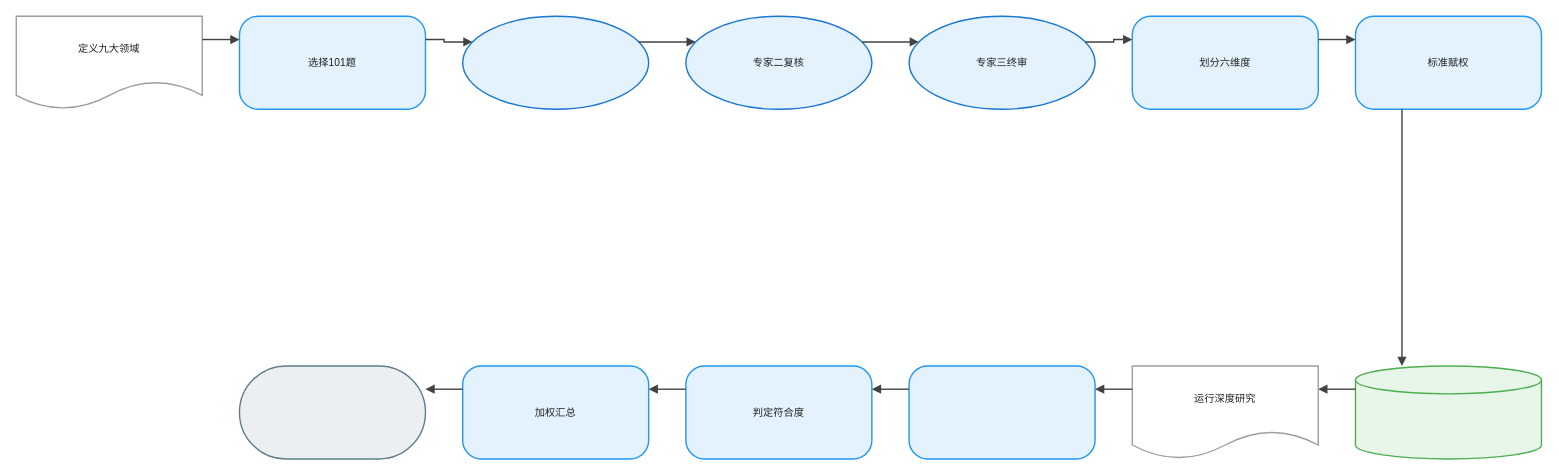
This 1559x476 diagram has some shape labels left out. The shapes that lost their labels are listed below. From the top down, each one's box as (x1, y1, x2, y2) in pixels, then its label:
(462, 15, 649, 110): 专家一起草
(238, 365, 426, 459): 报告切分结果
(908, 365, 1095, 459): 逐条评判
(1354, 365, 1542, 459): 冻结2593条
